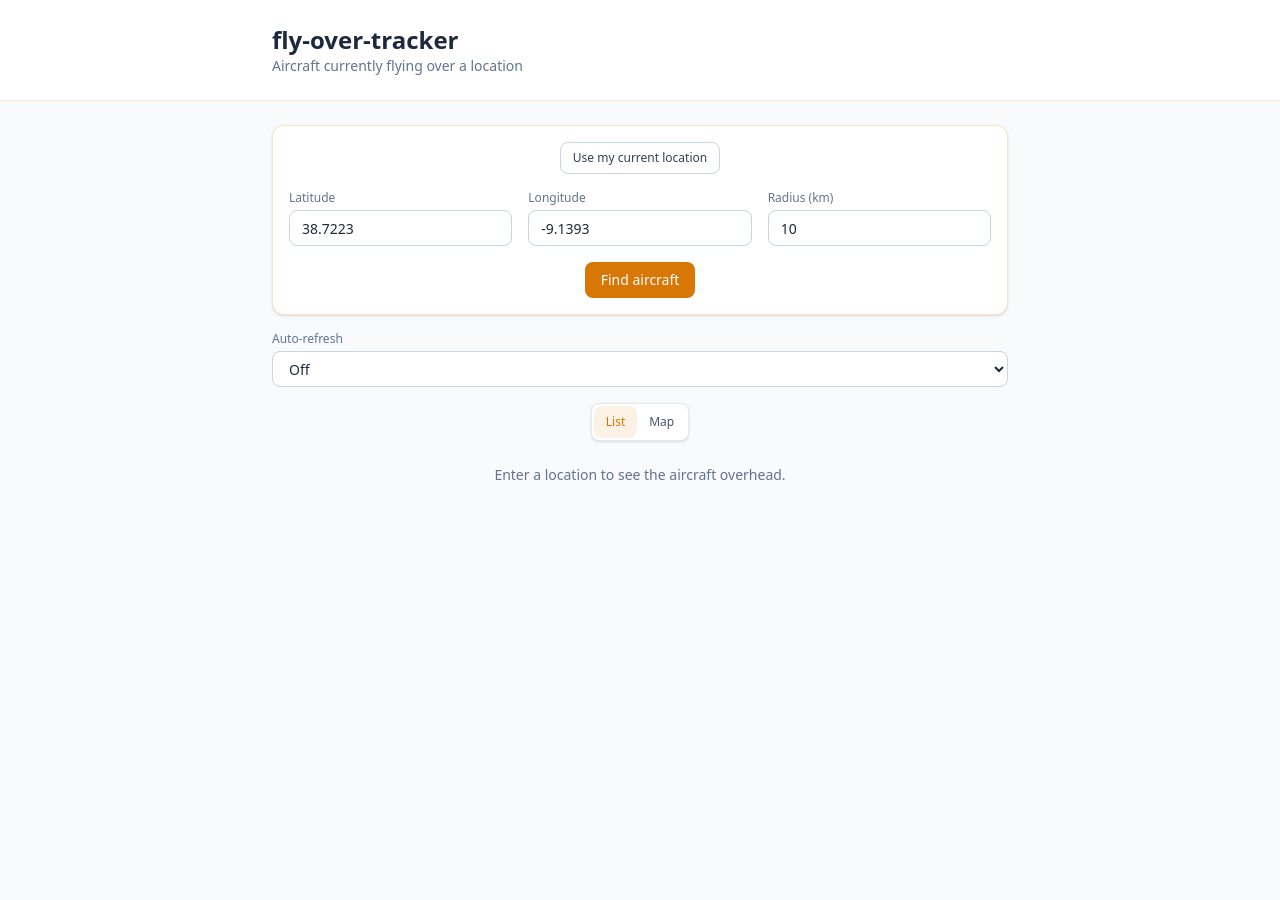
Test: App › shows a waiting-for-search notice when the inputs diverge from the submitted query
The width and height of the screenshot is (1280, 900).
Replace the text in the field labelled "Latitude" with "48.8566": (401, 228) [289,210,512,246]
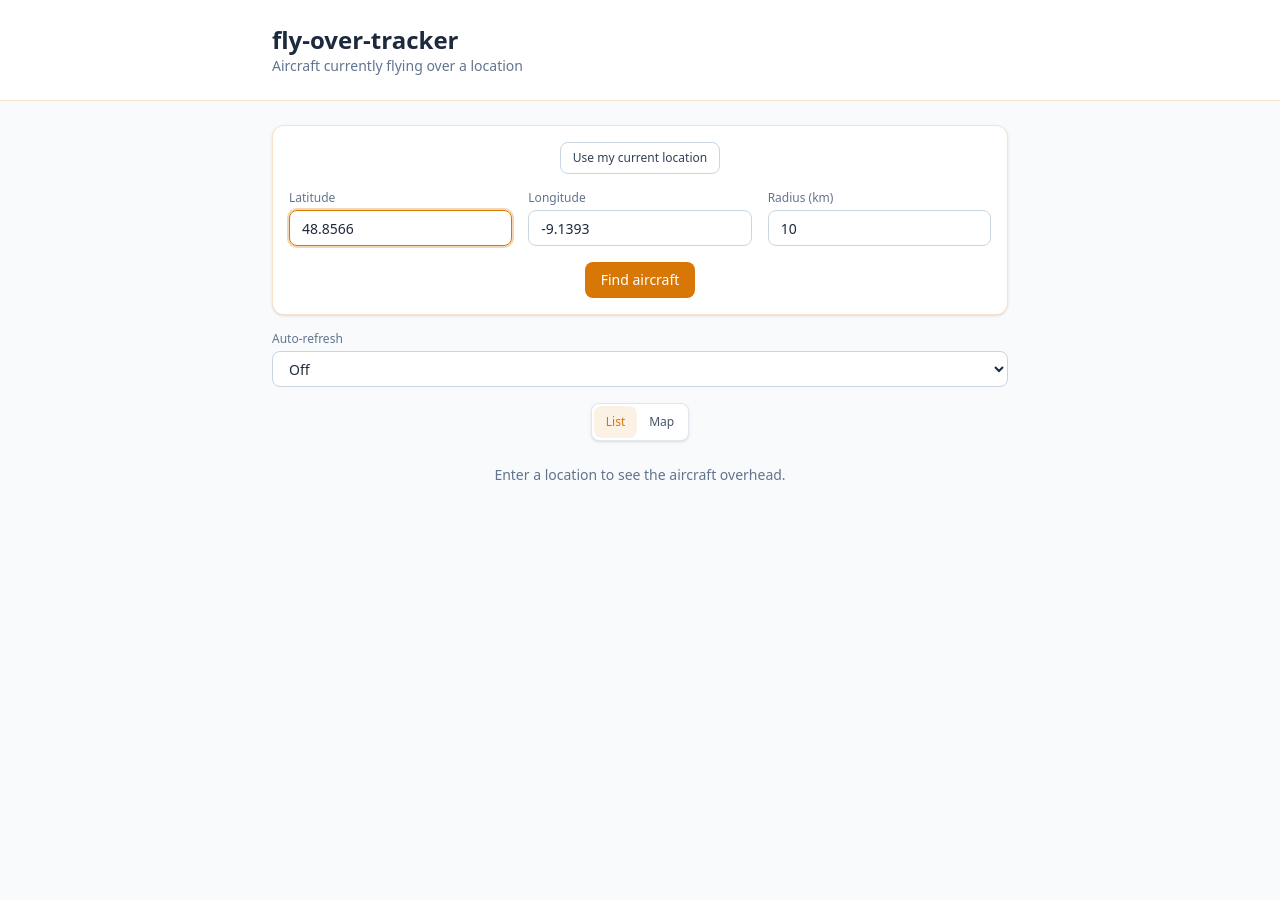
Replace the text in the field labelled "Longitude" with "2.3522": (640, 228) [528,210,752,246]
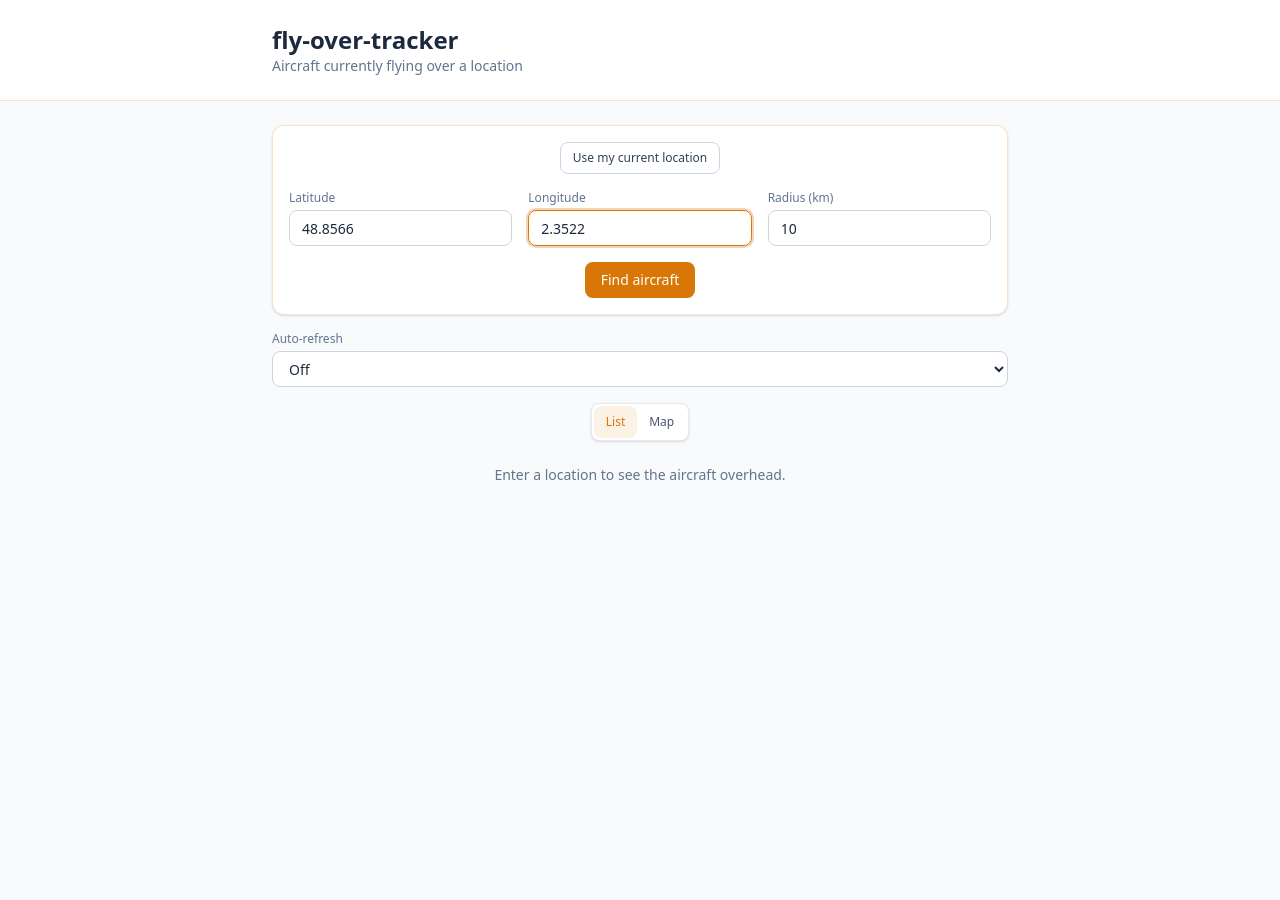
Replace the text in the field labelled "Radius (km)" with "50": (879, 228) [768,210,991,246]
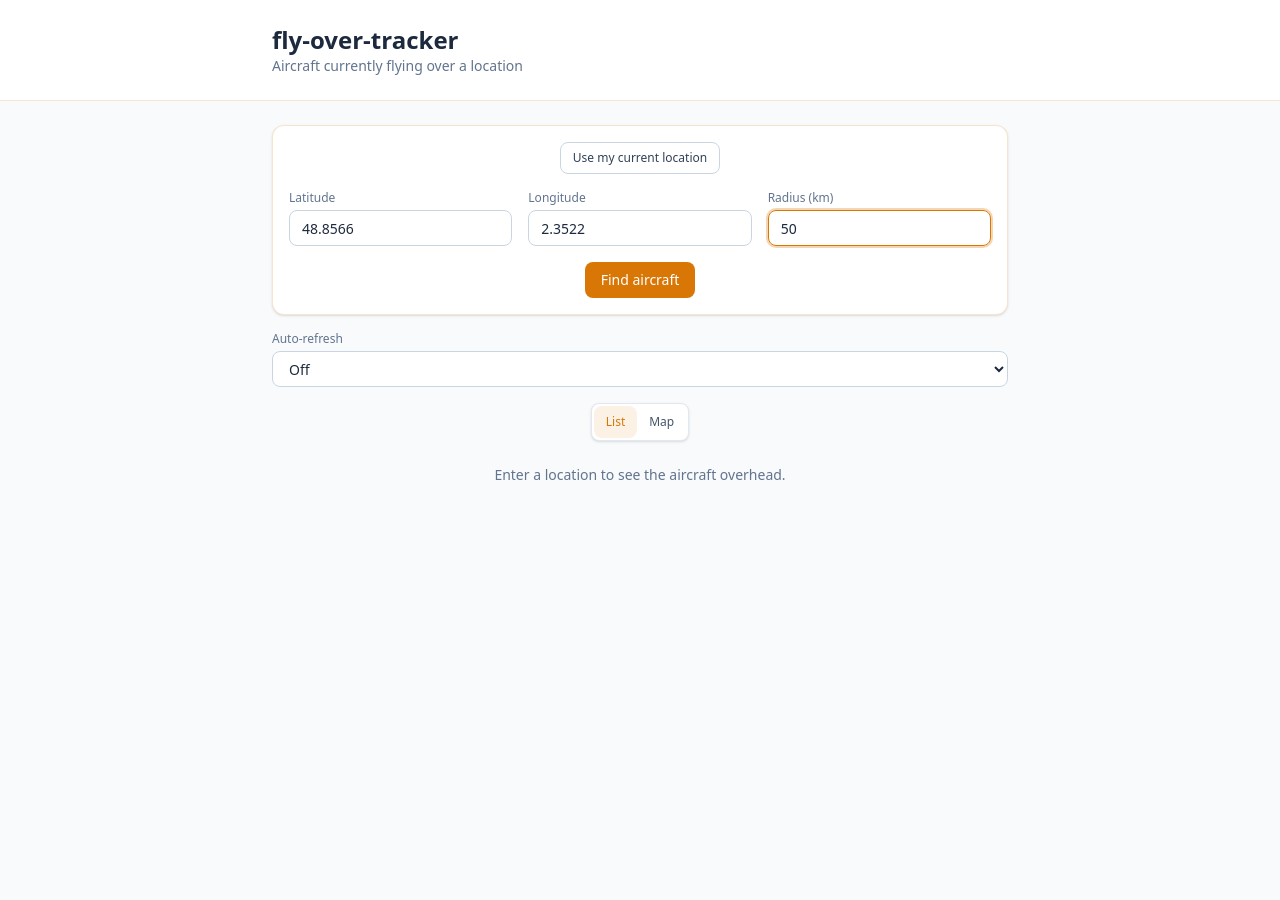
Click the button "Find aircraft": (640, 280) [585,262,695,298]
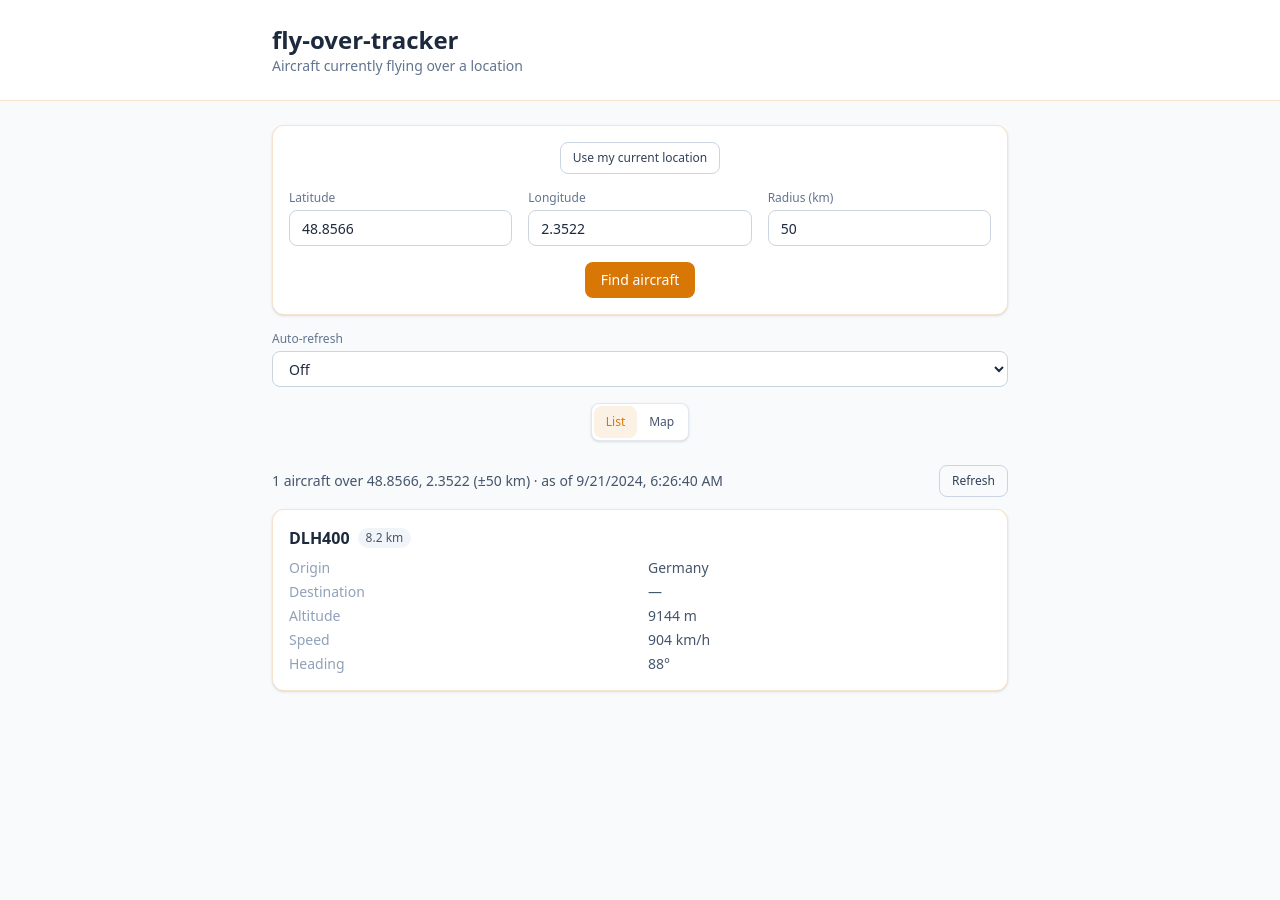
Check: the text "Waiting for search" is not shown
Check: the heading "DLH400" is shown, box [289,526,350,550]
Replace the text in the field labelled "Latitude" with "40": (401, 228) [289,210,512,246]
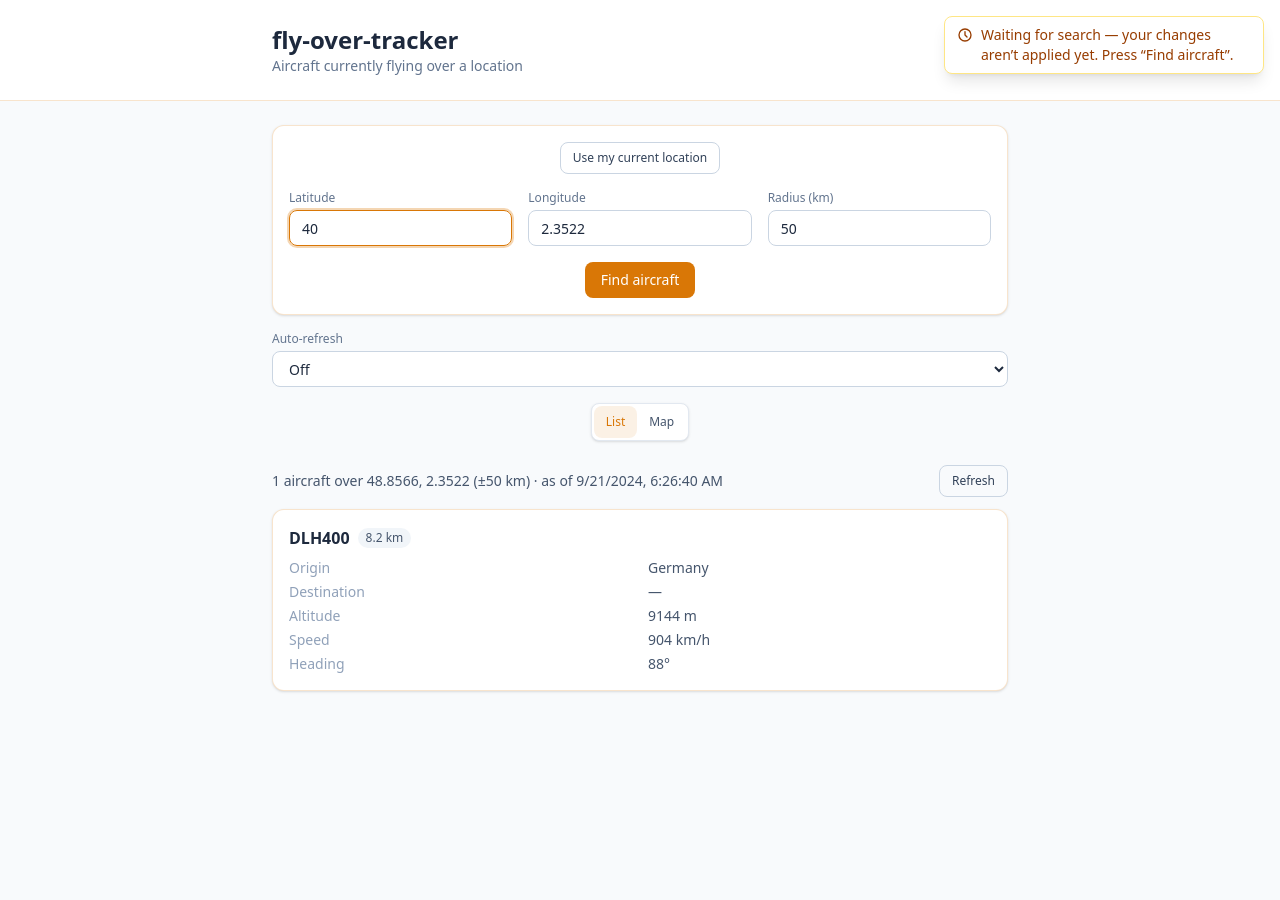
Check: the text "Waiting for search" is shown, box [981,25,1234,64]
Click the button "Find aircraft": (640, 280) [585,262,695,298]
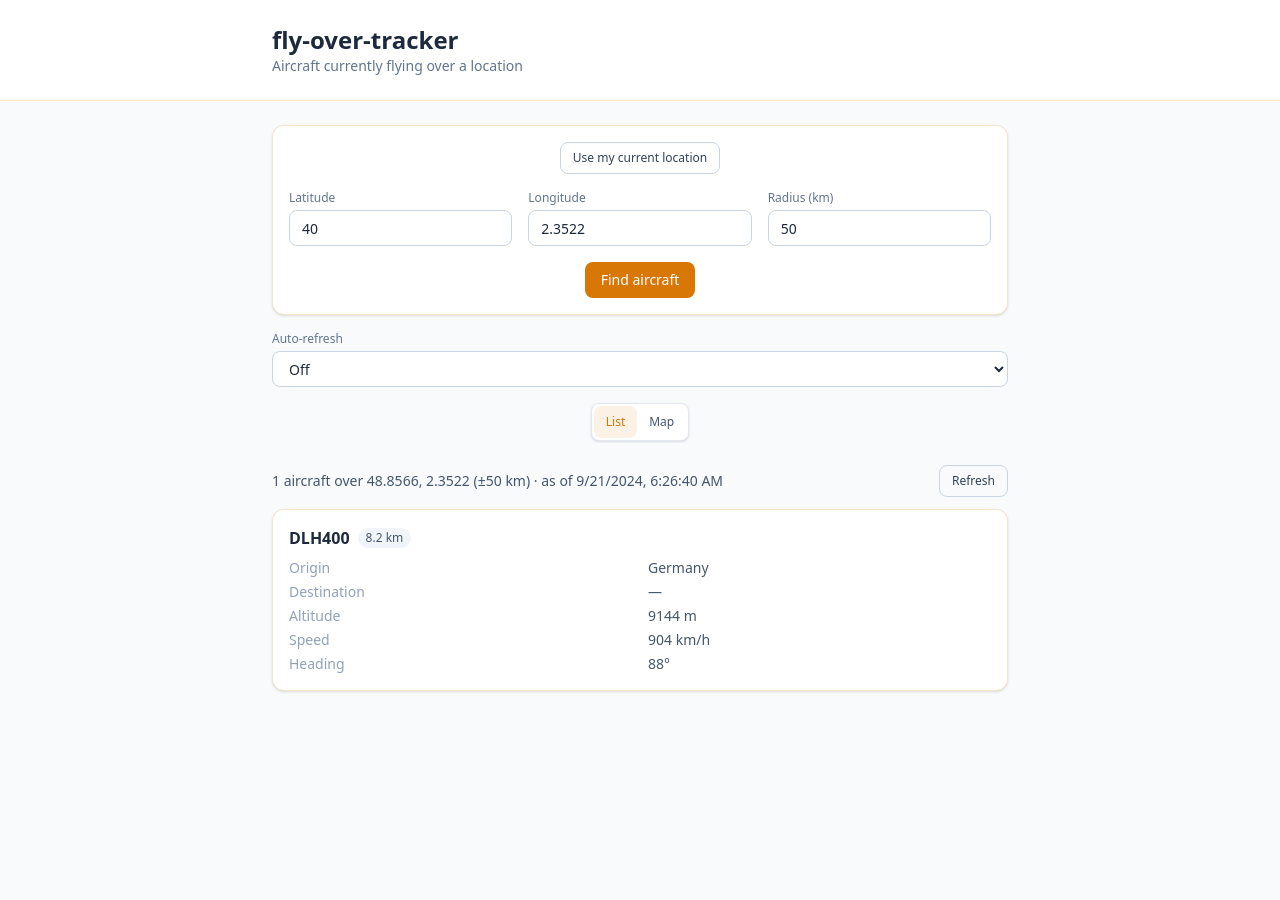
Check: the heading "DLH400" is shown, box [289,526,350,550]
Check: the text "Waiting for search" is gone
